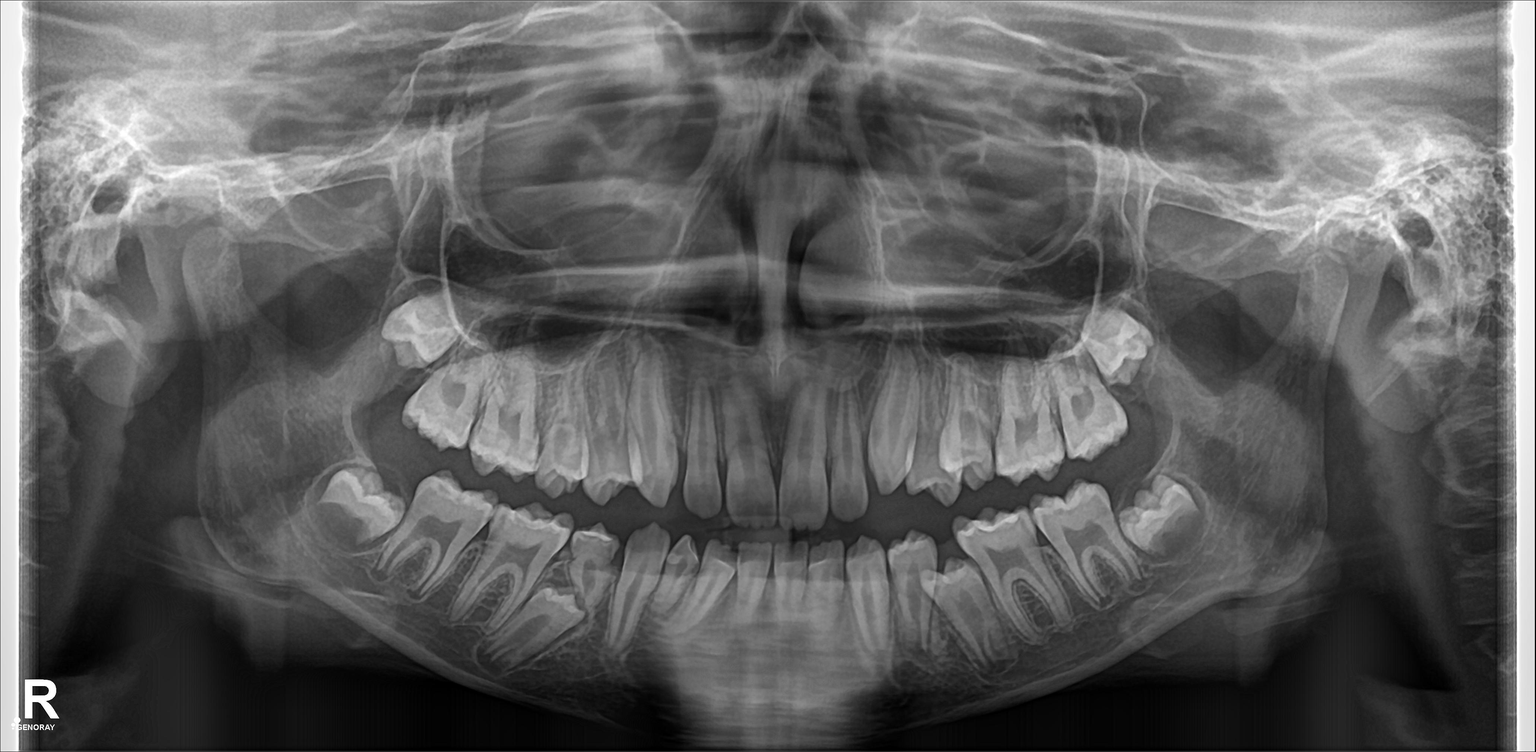Impacted Third Molar: (320, 458, 402, 550), (1125, 484, 1207, 548), (1088, 316, 1156, 380), (387, 302, 459, 362)
